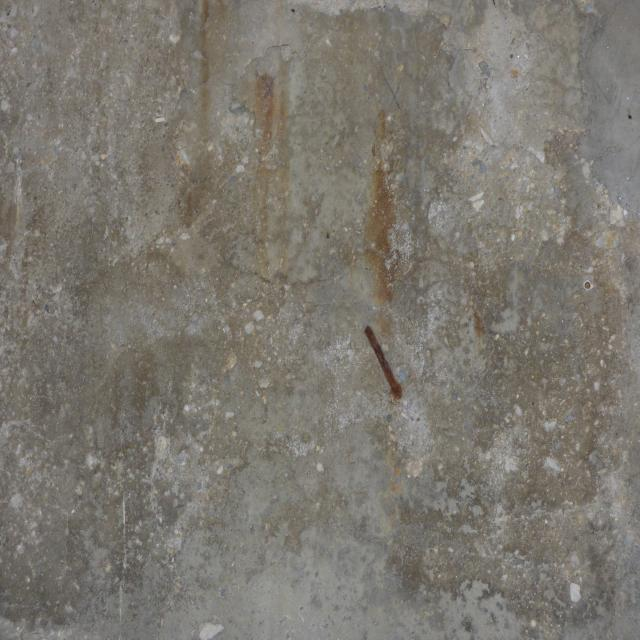corrosion: (184, 0, 293, 277), (350, 120, 419, 418)
